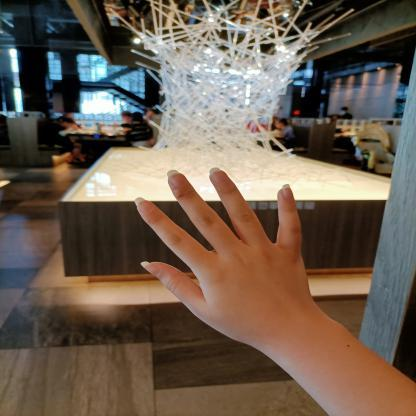bare_hand: (127, 158, 322, 356)
